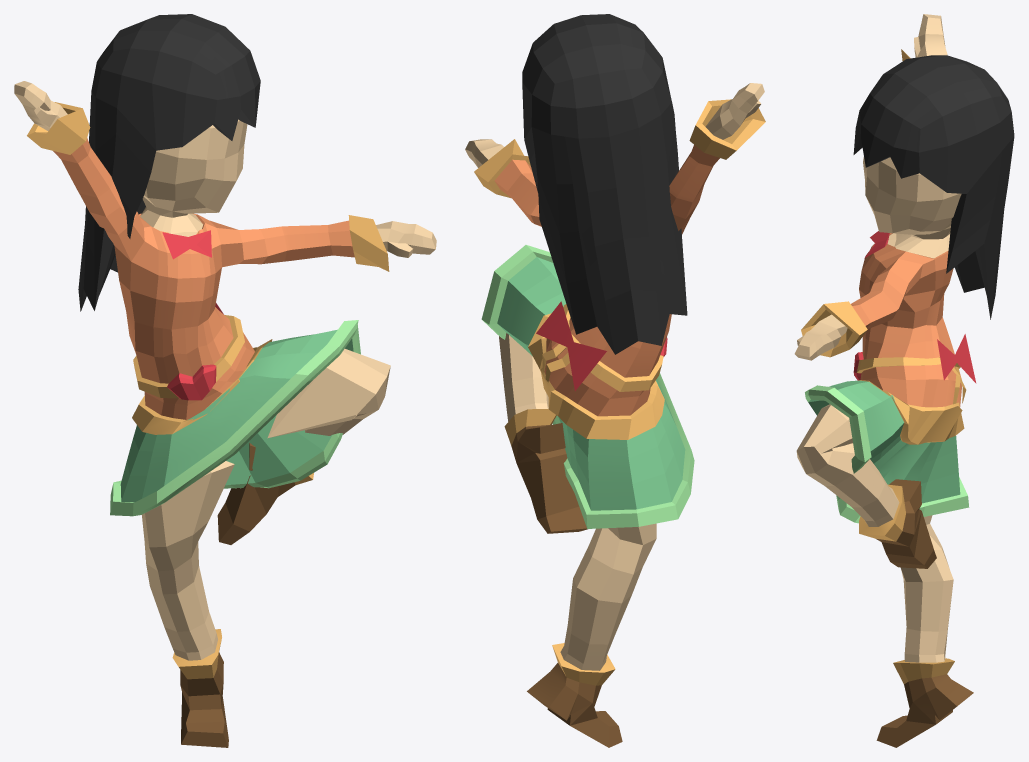
Rendered from maria0.fbx.
3 views of the same model, side by side, from view 1: azimuth 30°, elevation 25°; view 2: azimuth 150°, elevation 25°; view 3: azimuth 270°, elevation 25° (orthographic). The views are drawn at different scales.
Visible parts, largest first — view 1: Cube.001; view 2: Cube.001; view 3: Cube.001.
Boxes of the visible parts, left/top/right/bottom form: Cube.001: left=14, top=14, right=436, bottom=747; Cube.001: left=465, top=14, right=765, bottom=747; Cube.001: left=794, top=14, right=1014, bottom=747.
Bounding box in the file's own units: 183 × 351 × 105.
